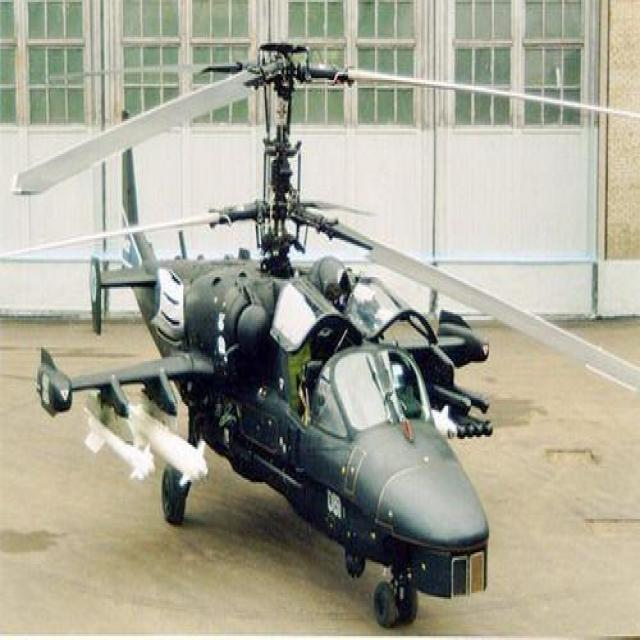MIL_HELO: (8, 39, 640, 628)
